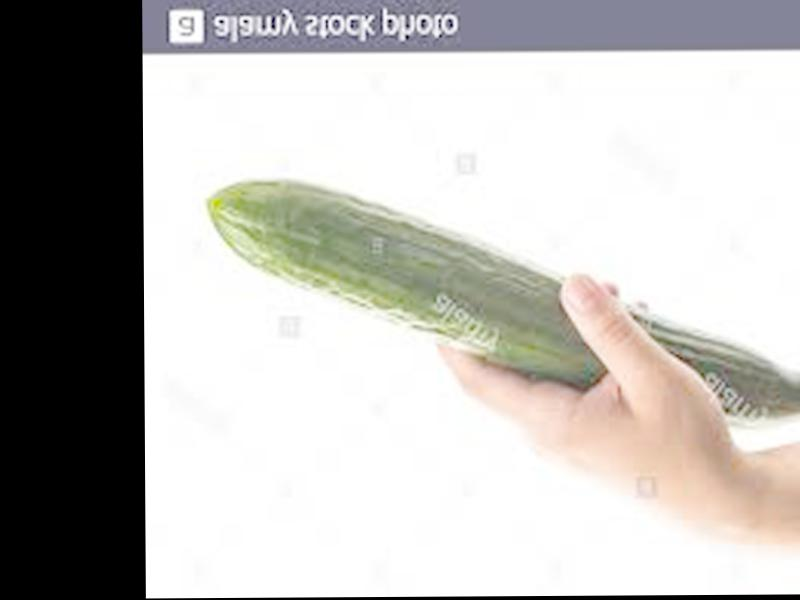Cucumber: (204, 174, 800, 431)
